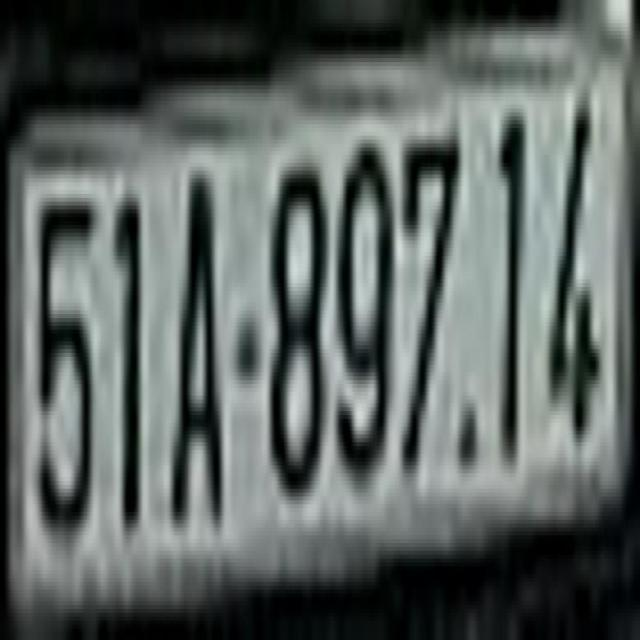1: (112, 171, 151, 543), (494, 74, 531, 462)
4: (546, 66, 600, 465)
5: (38, 163, 96, 535)
7: (398, 105, 459, 481)
8: (267, 148, 326, 500)
9: (336, 128, 393, 481)
A: (171, 159, 225, 528)
